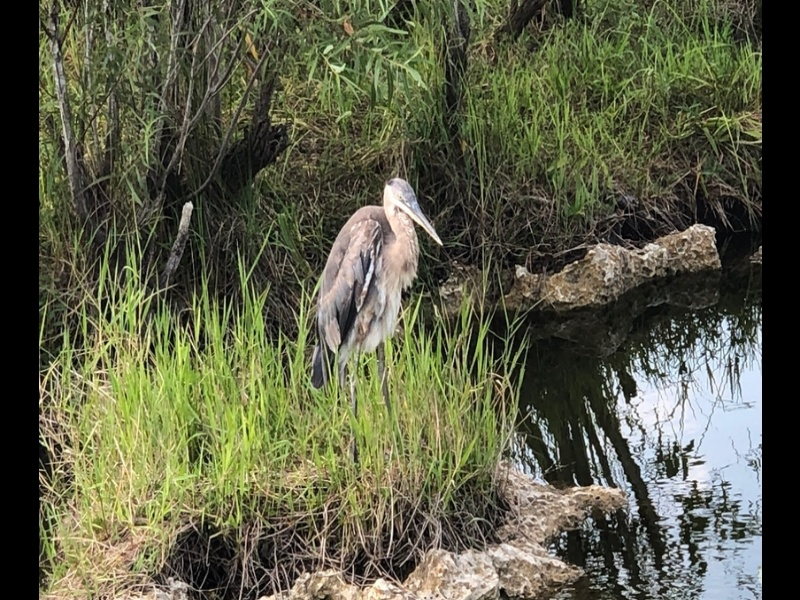heron: (305, 173, 447, 420)
